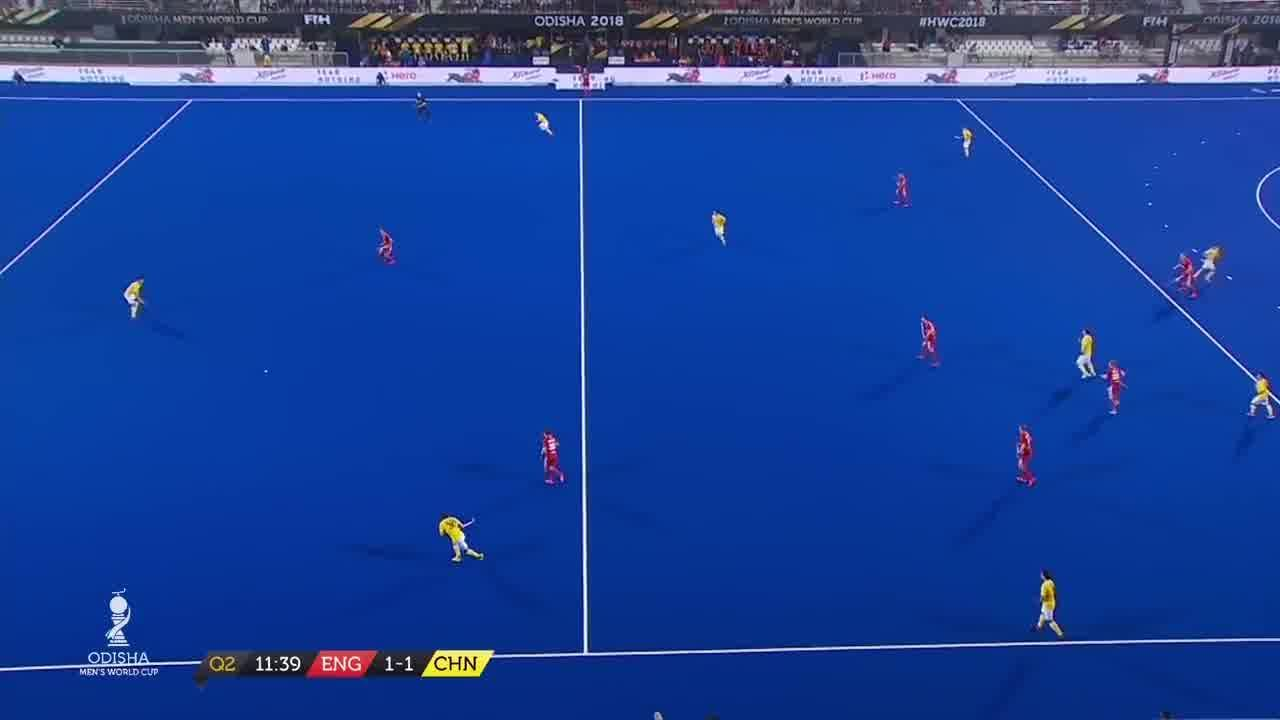ball: (264, 370, 269, 377)
